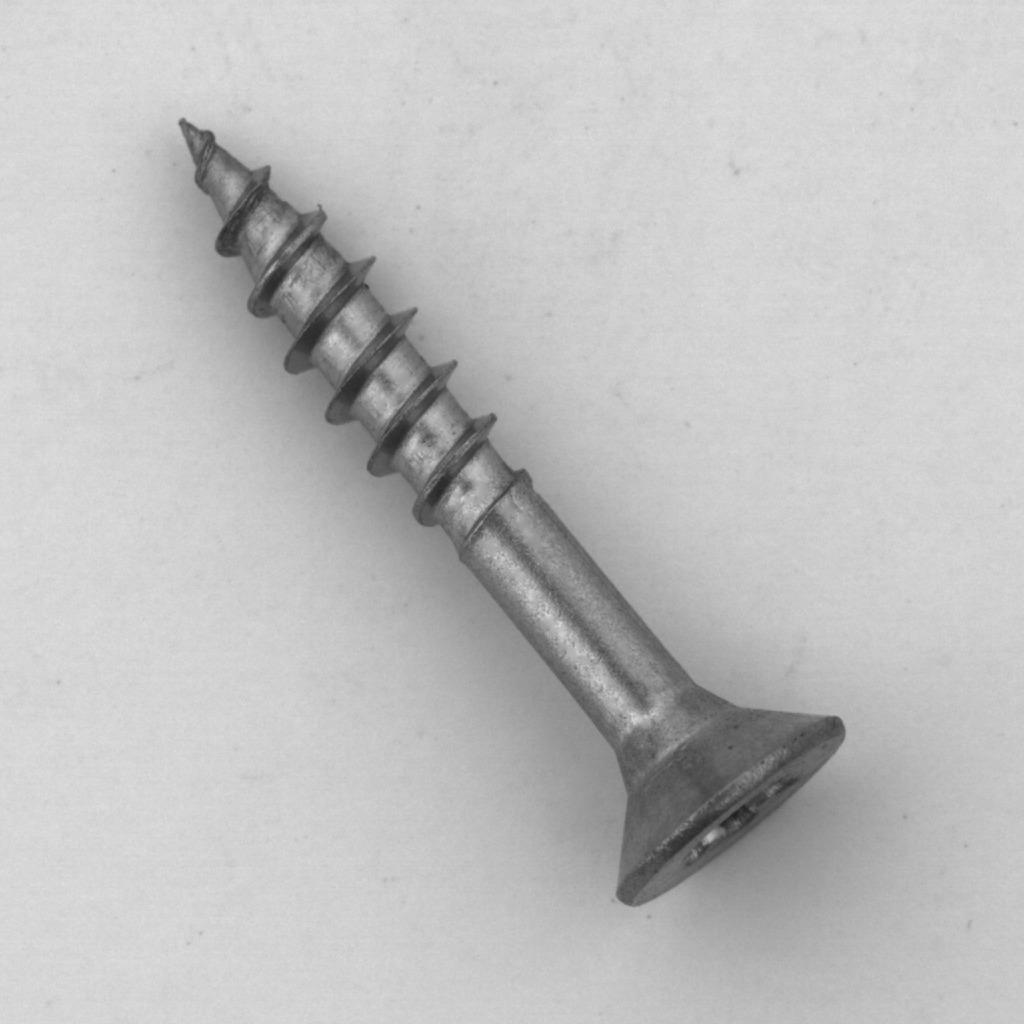good: (160, 100, 868, 932)
